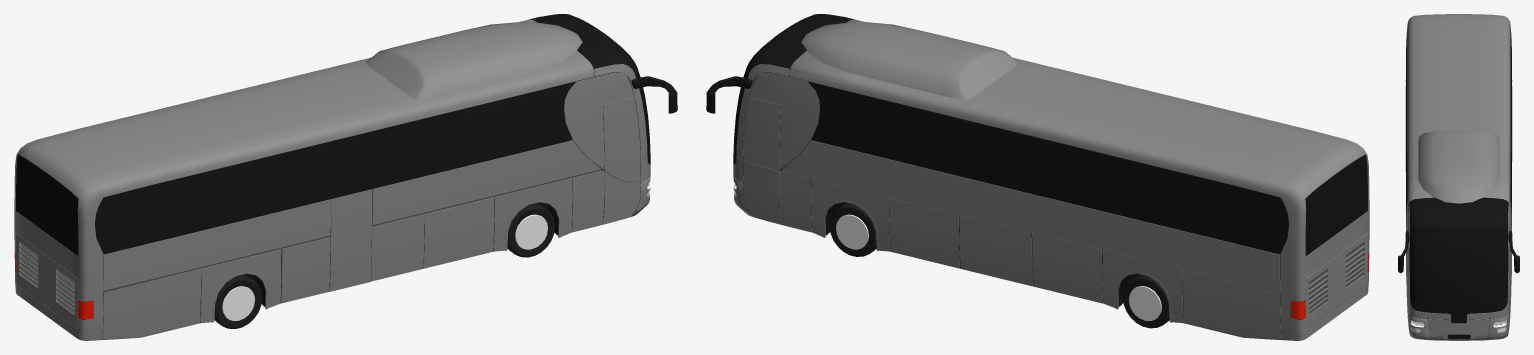
The model's file is sm_manyen_bus_modelcenterpoint_lod_2.fbx.
The picture shows the model from 3 angles, left to right: view 1: azimuth 30°, elevation 25°; view 2: azimuth 150°, elevation 25°; view 3: azimuth 270°, elevation 25°; orthographic projection. The views are drawn at different scales.
Parts seen in each view (by area): view 1: lod_2; view 2: lod_2; view 3: lod_2.
Boxes of the visible parts, <box> form: lod_2: <box>14,14,677,340</box>; lod_2: <box>706,14,1369,340</box>; lod_2: <box>1398,14,1519,340</box>.
Size of the model in its own units: 12.24 by 3.89 by 2.89.
6 materials, 6 textured.
